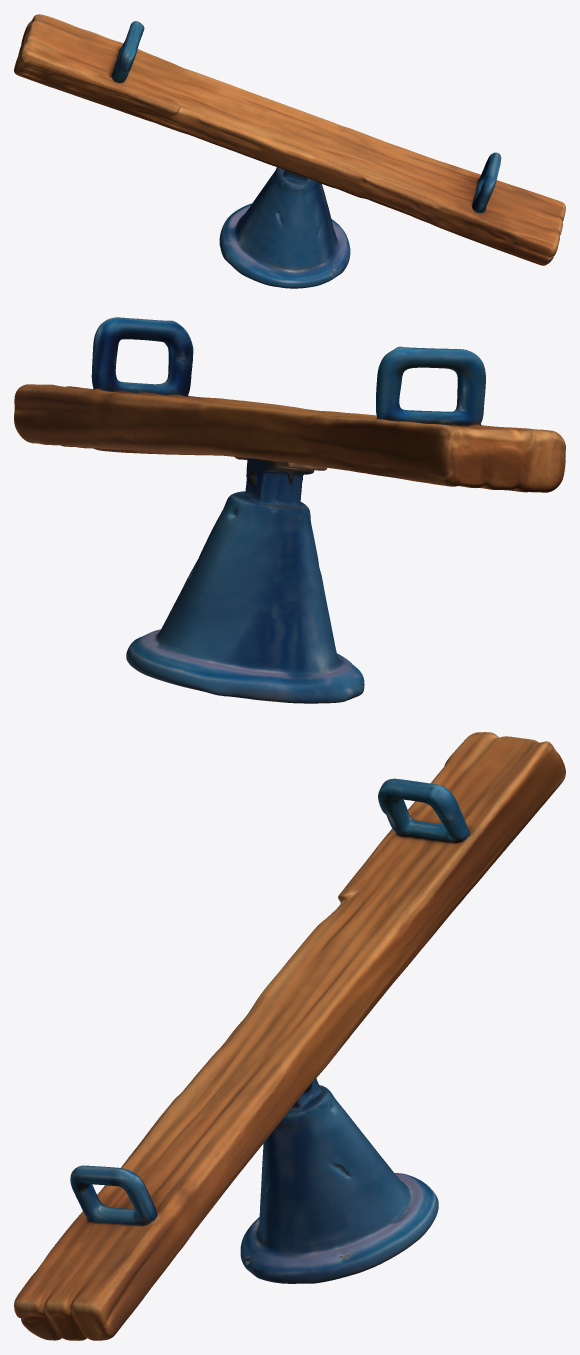
Rendered from seesaw.glb.
3 views of the same model, one above another, from view 1: azimuth 30°, elevation 25°; view 2: azimuth 150°, elevation 25°; view 3: azimuth 270°, elevation 25° (orthographic). The views are drawn at different scales.
Size of the model in its own units: 0.8949 by 0.4969 by 0.6471.
Materials: 1 (1 with a texture image).
